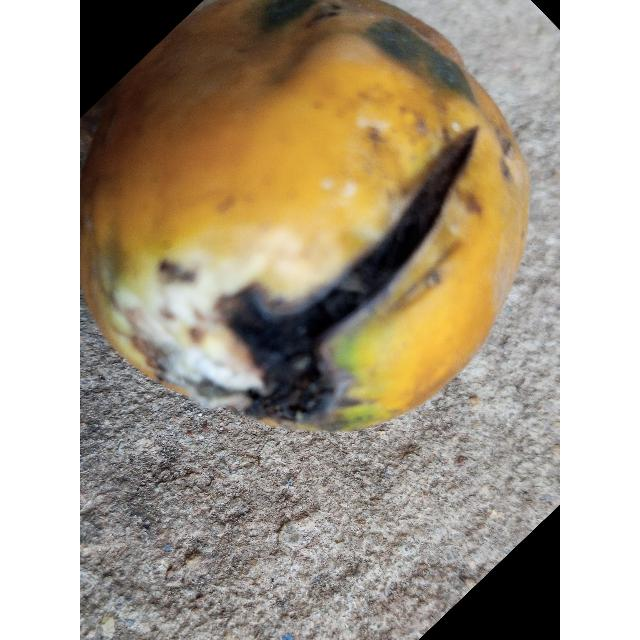damaged: (80, 0, 529, 430)
